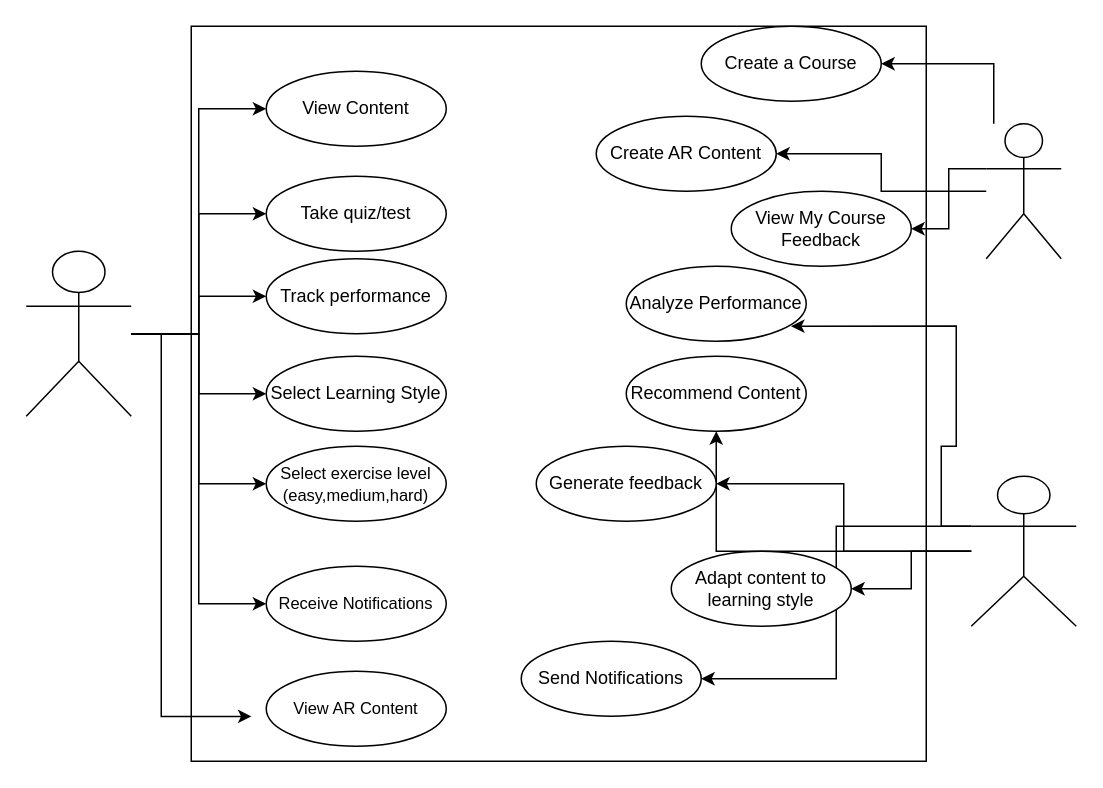
This 1103x788 diagram has some shape labels left out. The shapes that lost their labels are listed below. From the top down, each one's centre as x and y in pixels, then its label:
At (x=1023, y=190): "Teacher".
At (x=78, y=333): "Student".
At (x=1023, y=550): "AI Engine".
